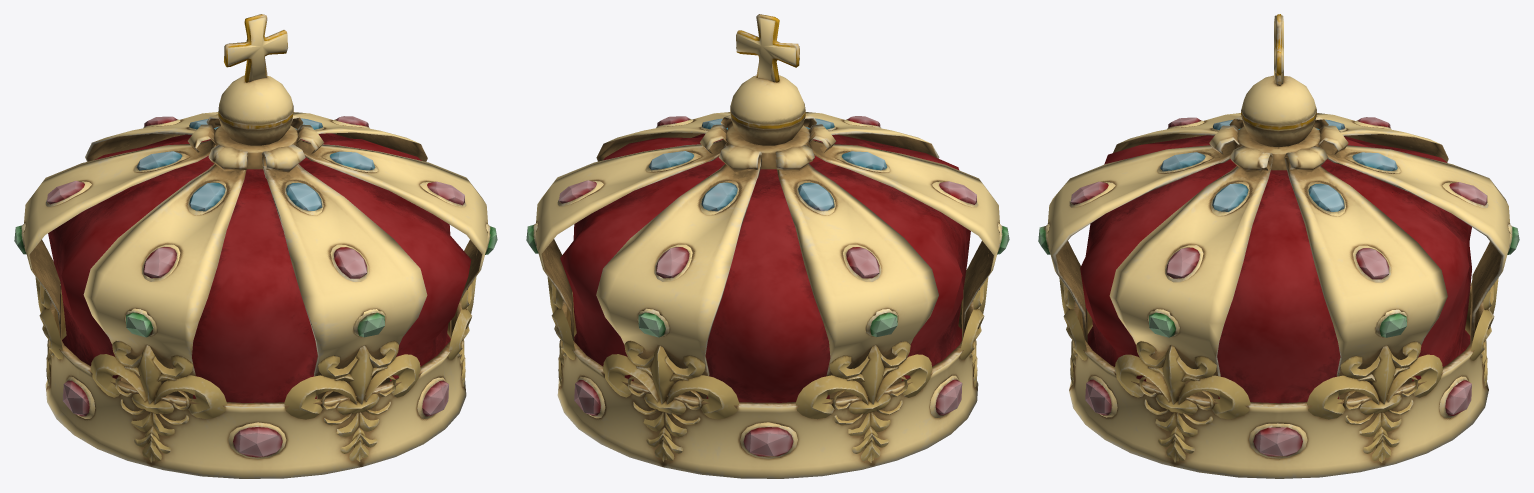
File: FixedMediumCrown.fbx
3 renders of one model, left to right at view 1: azimuth 30°, elevation 25°; view 2: azimuth 150°, elevation 25°; view 3: azimuth 270°, elevation 25°, orthographic.
Visible parts, largest first — view 1: MediumCrown; view 2: MediumCrown; view 3: MediumCrown.
Part boxes in pixels (x1,y1,x2,y2): MediumCrown: (14,14,497,478); MediumCrown: (526,14,1009,478); MediumCrown: (1038,14,1519,478).
Bounding box in the file's own units: 21843 × 22951 × 19683.
